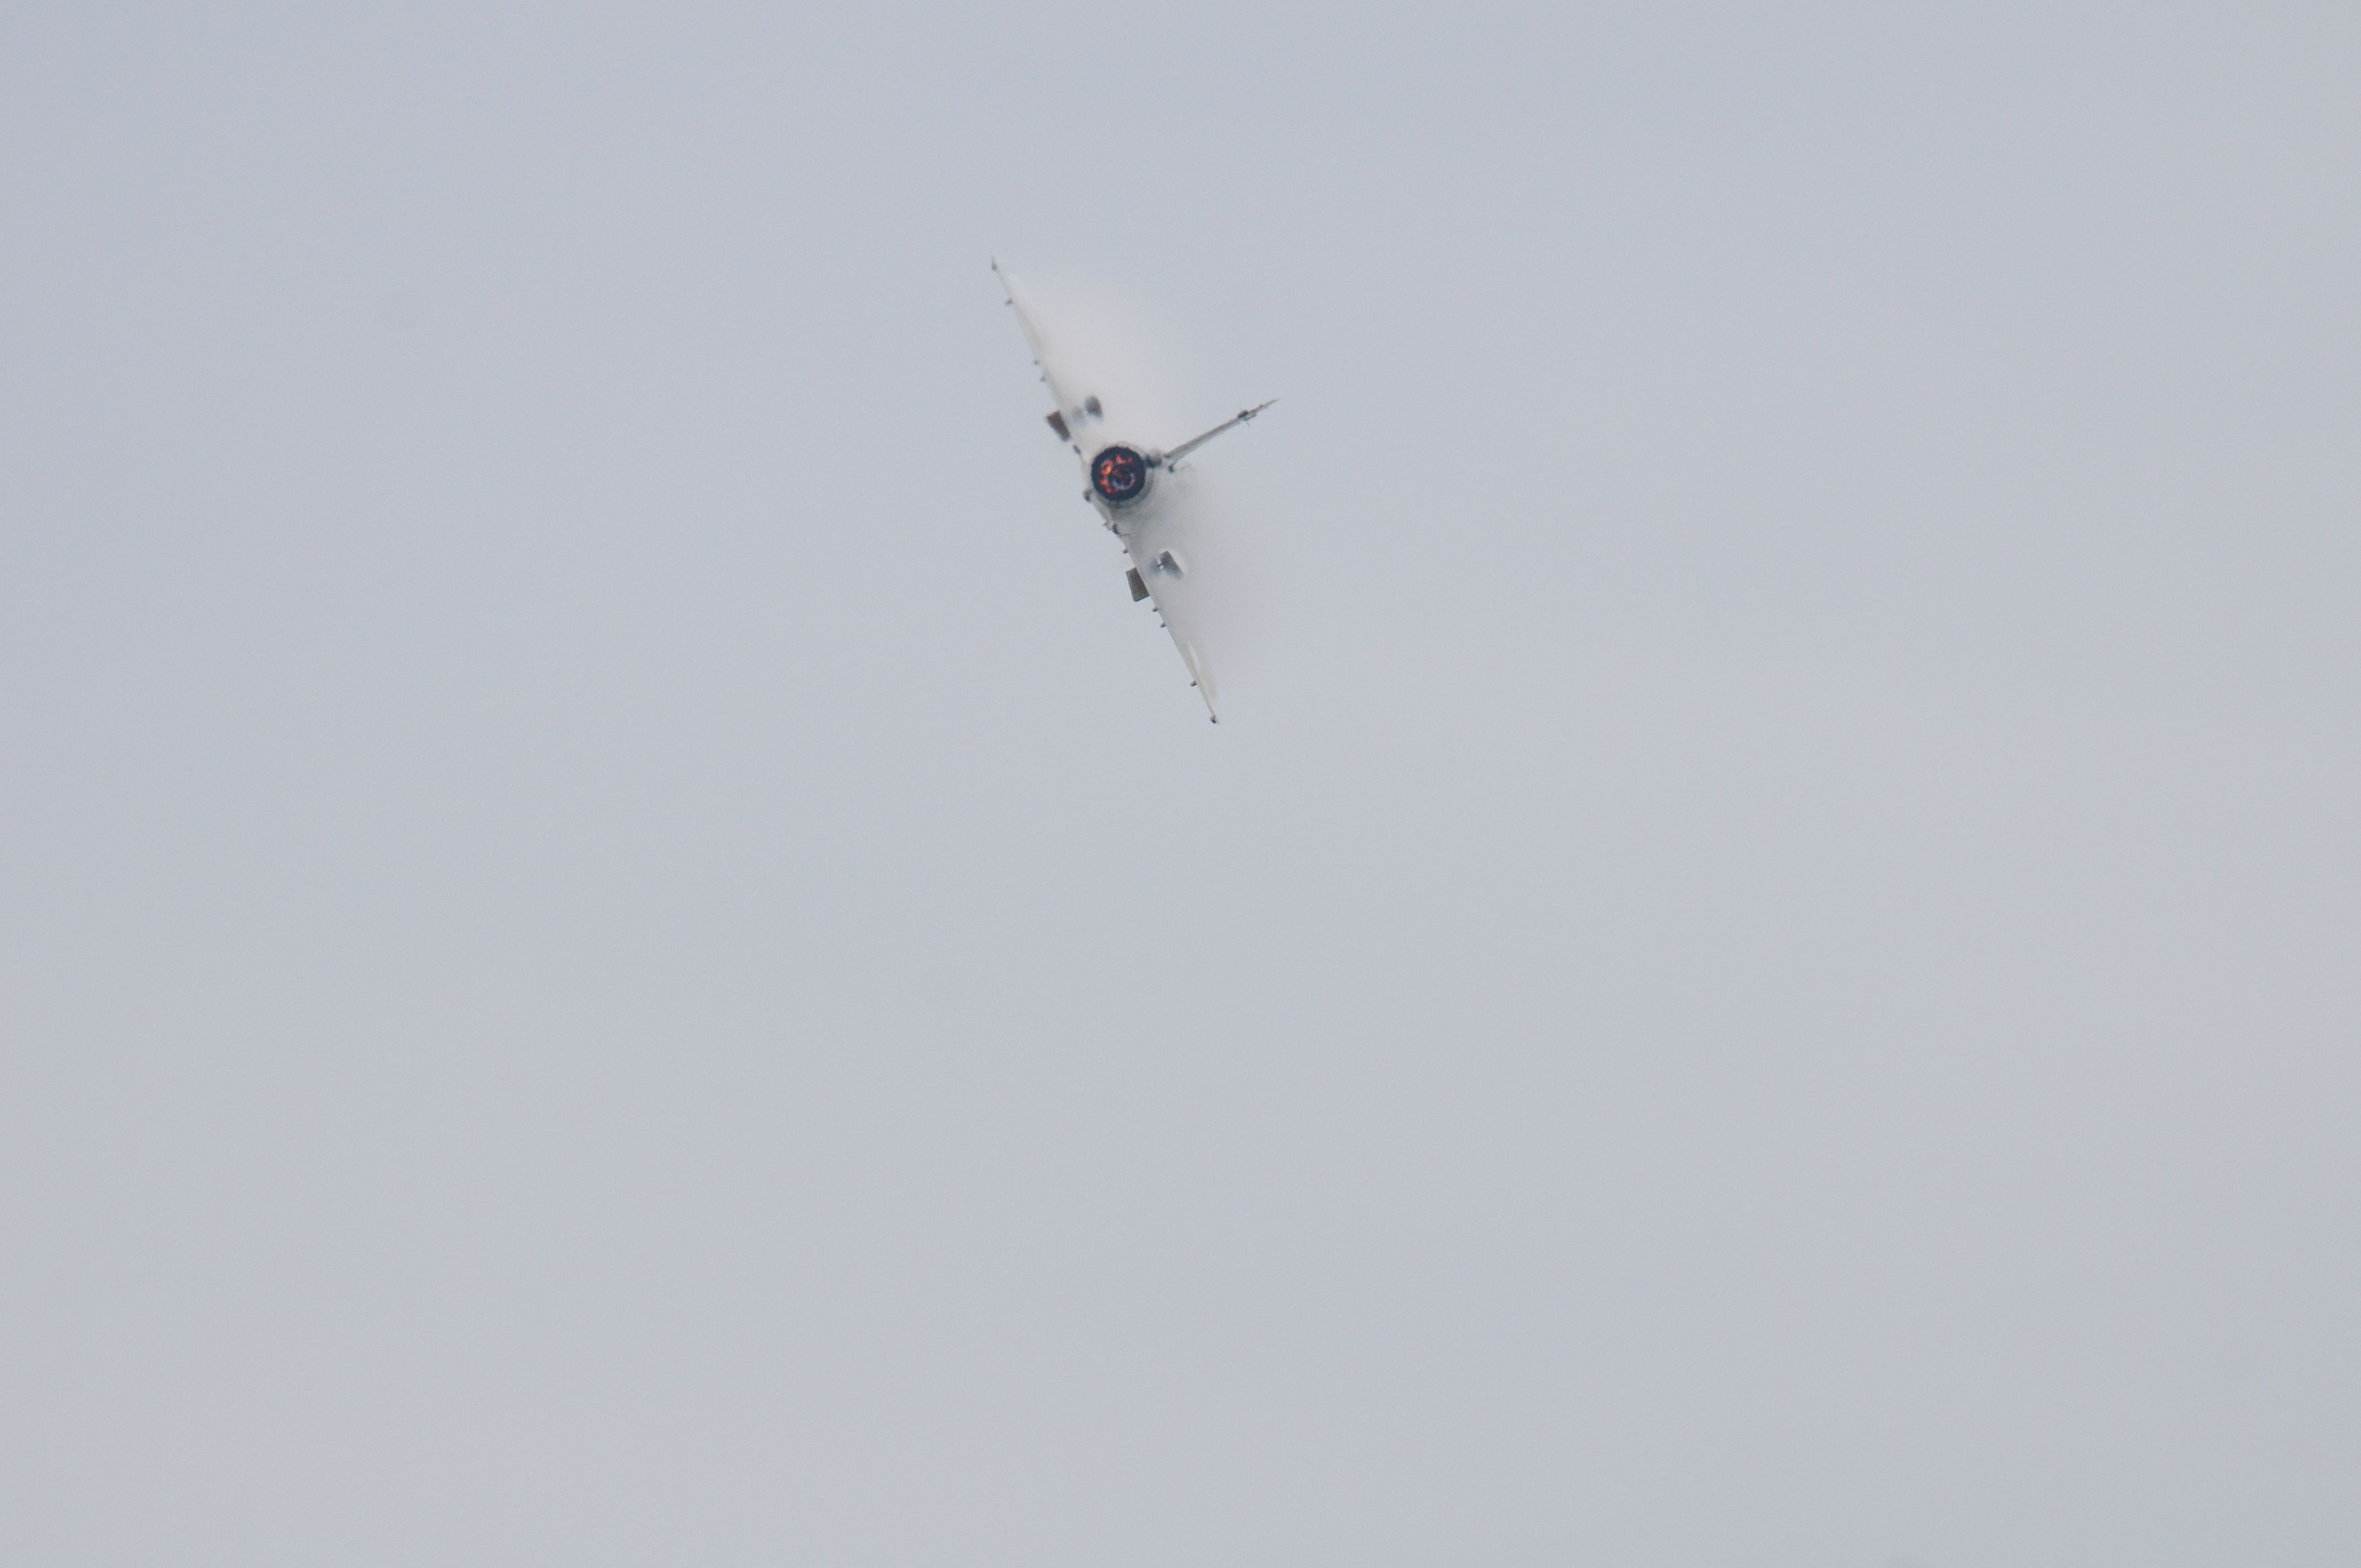Mirage2000: (991, 252, 1281, 726)
